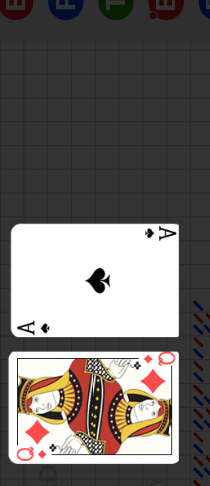AS: (16, 318, 54, 335), (141, 226, 177, 243)
QD: (132, 364, 179, 408), (12, 431, 58, 475)
